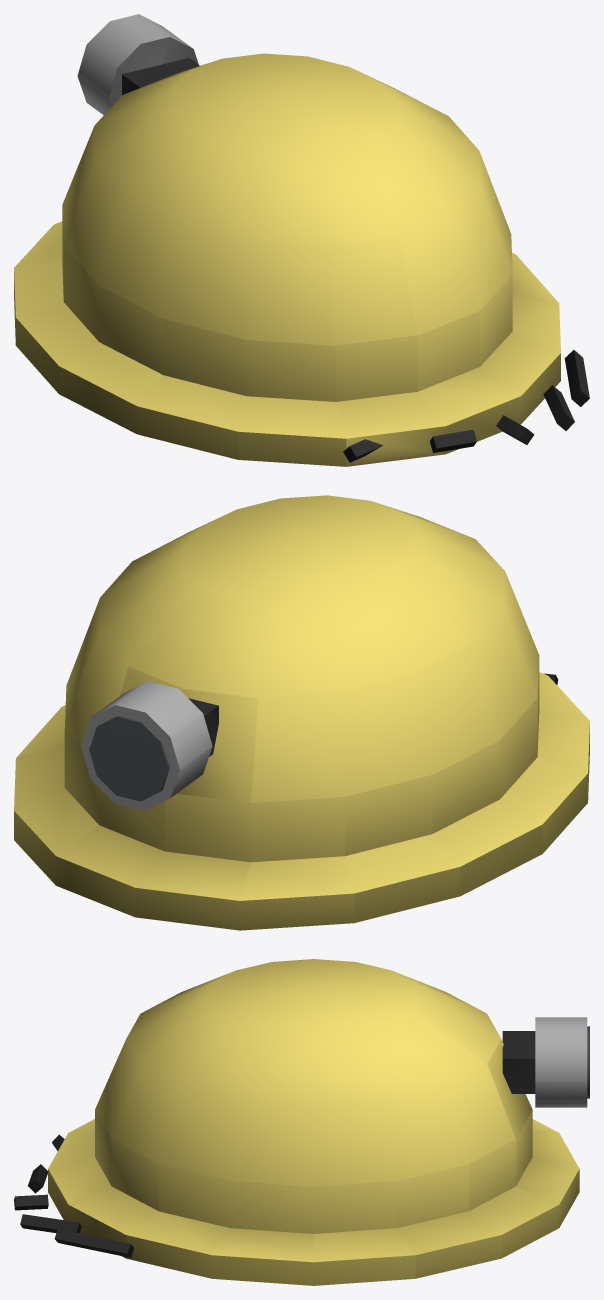
The model's file is helmet_lamp.glb.
3 renders of one model, top to bottom at view 1: azimuth 30°, elevation 25°; view 2: azimuth 150°, elevation 25°; view 3: azimuth 270°, elevation 25°, orthographic. The views are drawn at different scales.
Visible parts, largest first — view 1: static; view 2: static; view 3: static.
Part boxes in pixels (box(x1,y1,x2,y2)): static: box(14, 14, 589, 466); static: box(14, 495, 589, 930); static: box(14, 959, 589, 1285).
Bounding box in the file's own units: 0.34 × 0.17 × 0.4421.
